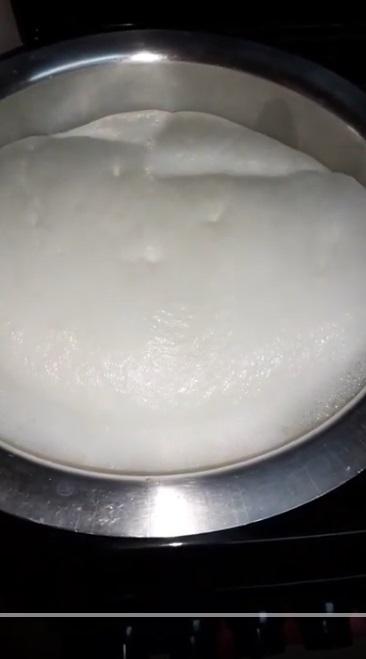Boiled: (6, 62, 366, 482)
